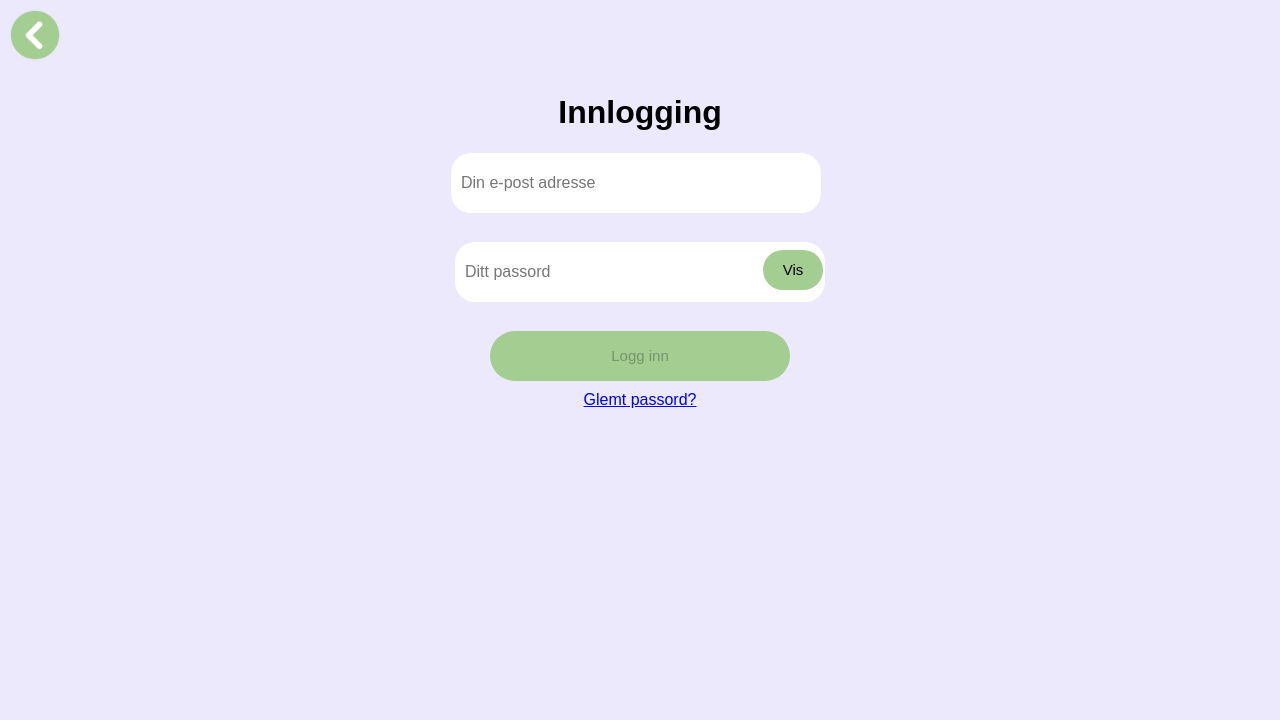
Scenario: Badges › Show Badge in popup when clicked
Step 1. Type "test@test.test" into the field named "email" → (636, 183), box [451, 153, 821, 213]
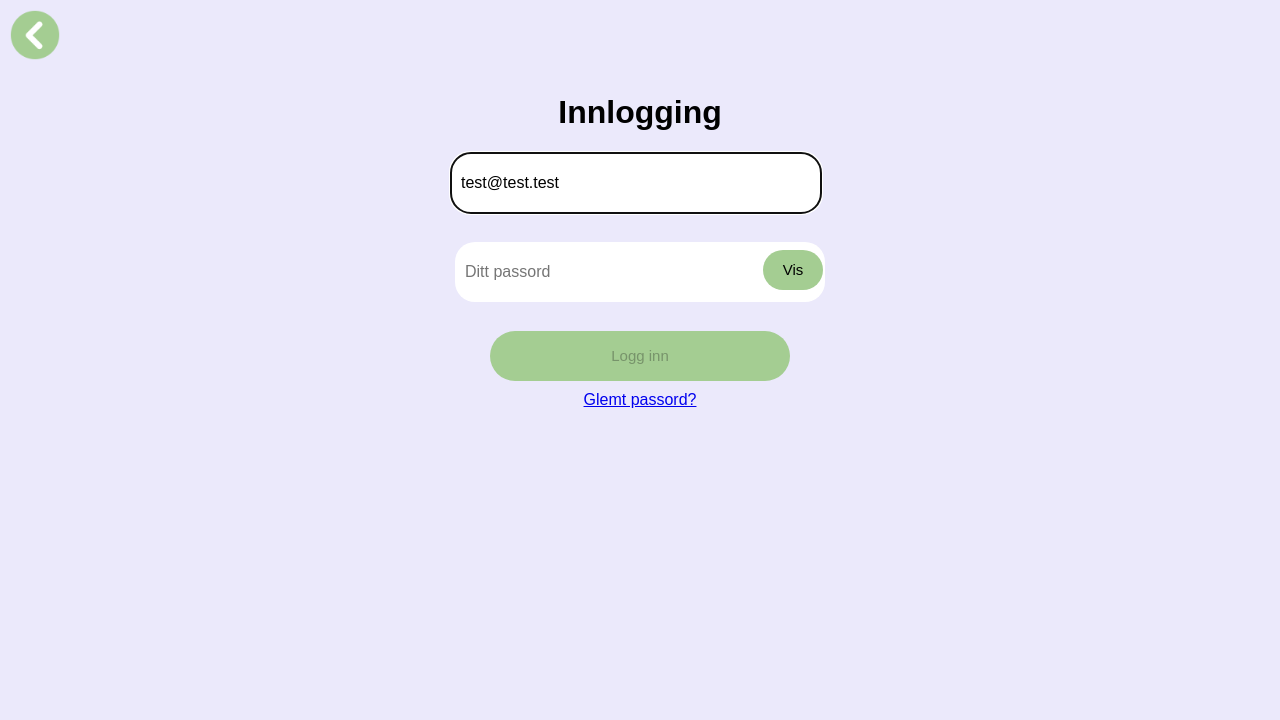
Step 2. Type "password" into the password field named "password" → (640, 272), box [455, 242, 825, 302]
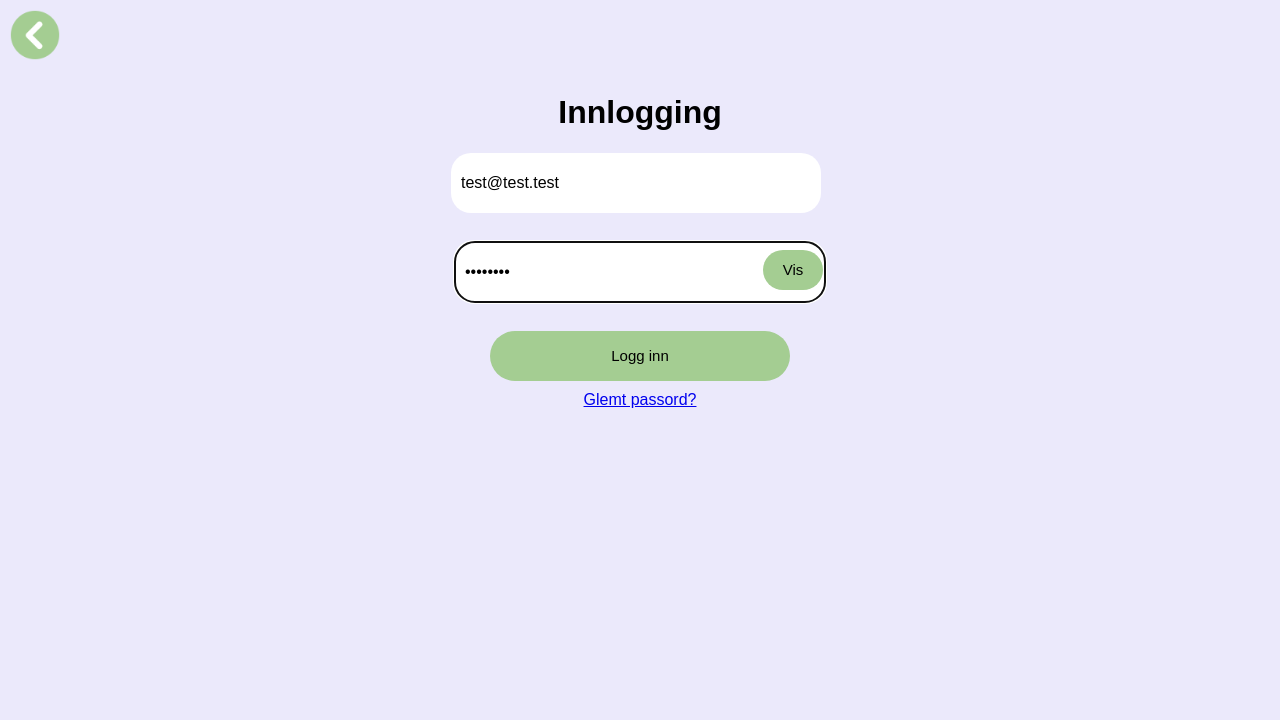
Step 3. Click the submit button → (640, 356), box [490, 331, 790, 381]
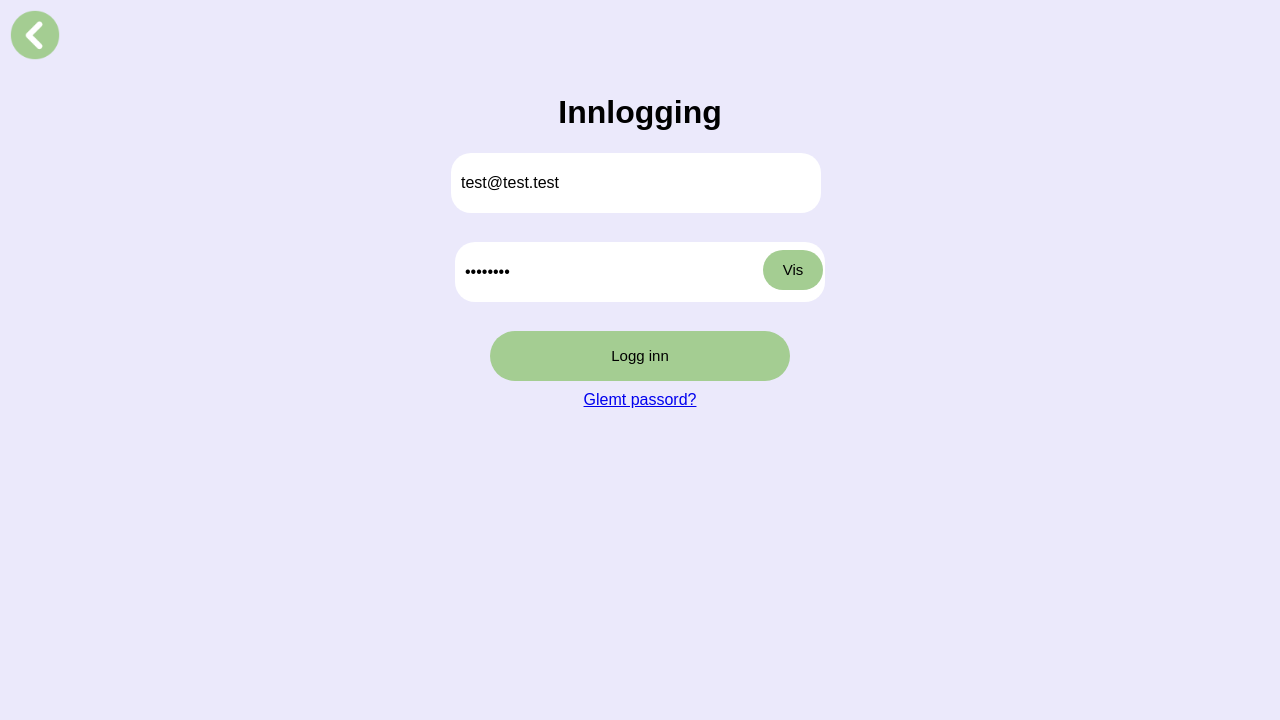
Step 4. Open "/badges"
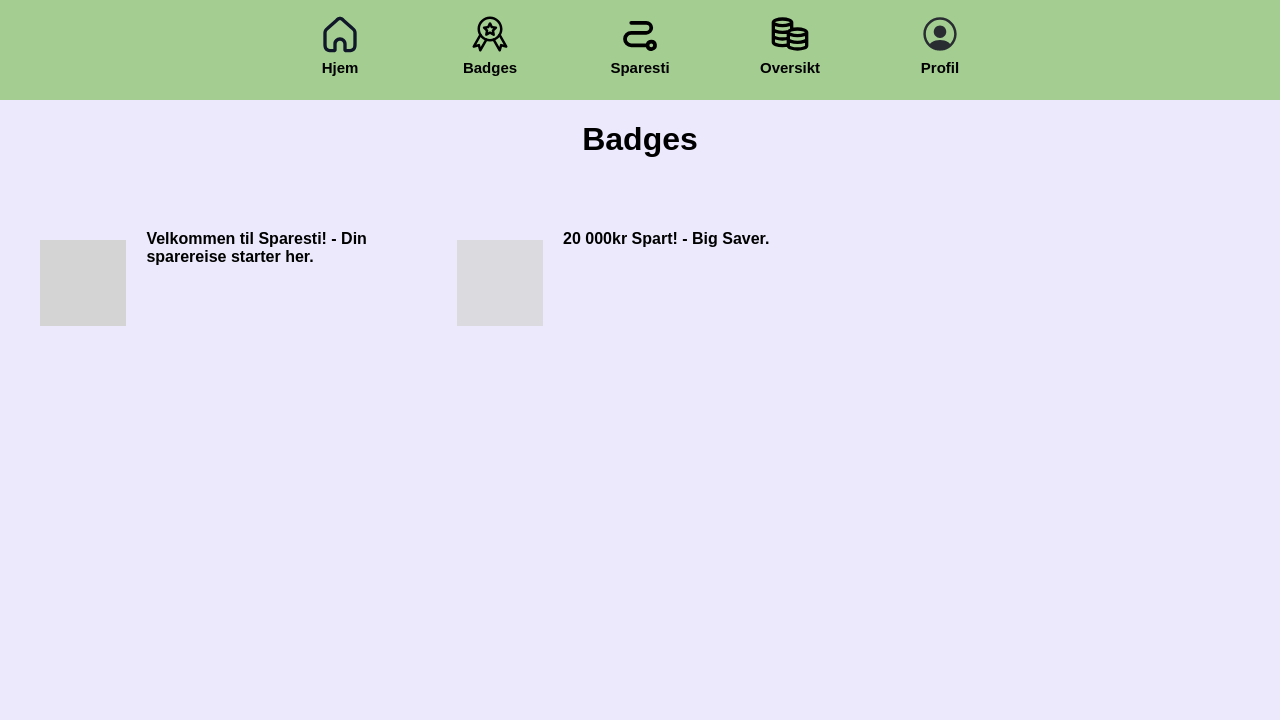
Step 5. Click the text "Velkommen til Sparesti! - Din sparereise starter her." → (257, 248), box [146, 230, 367, 265]
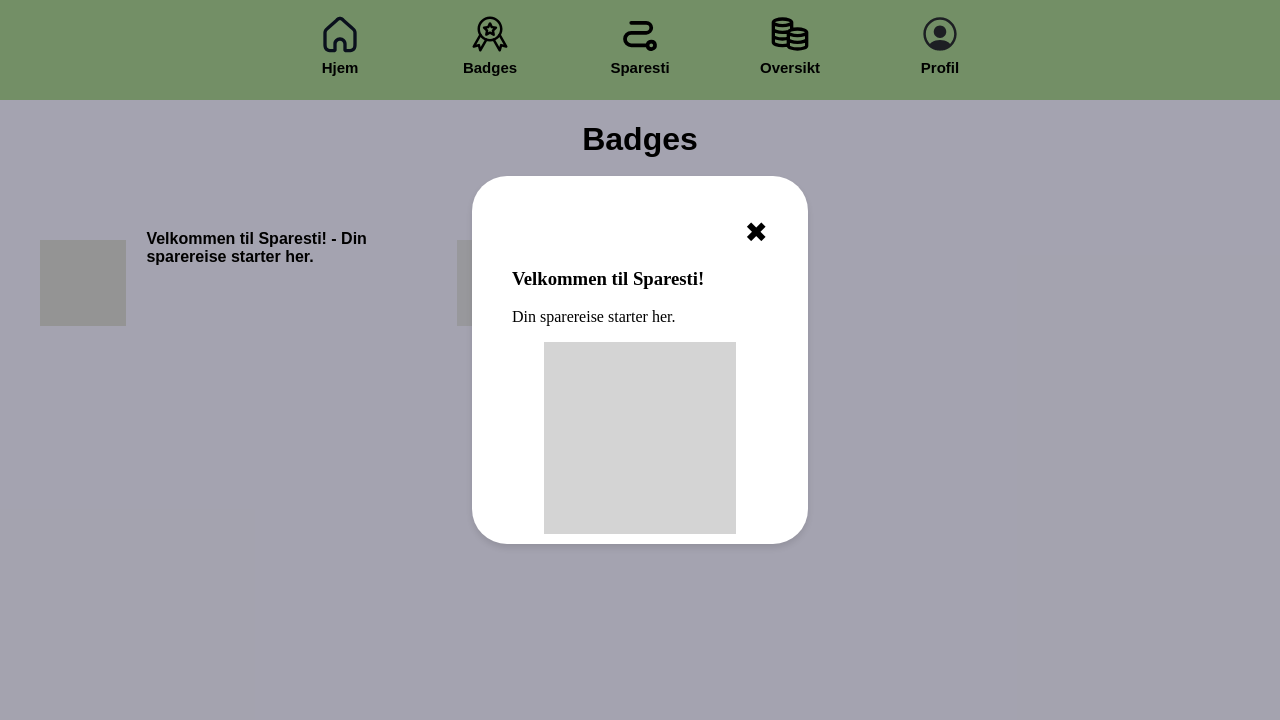
Now the heading "Velkommen til Sparesti!" is shown, box [512, 268, 704, 289]
